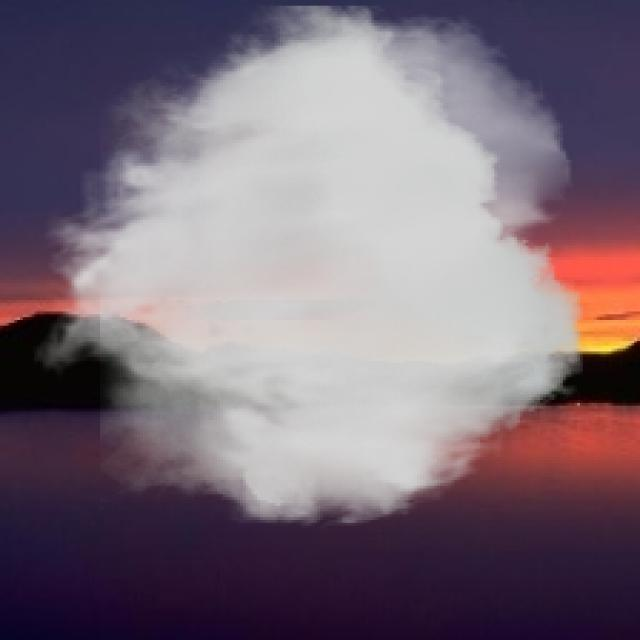smoke: (31, 6, 583, 531)
